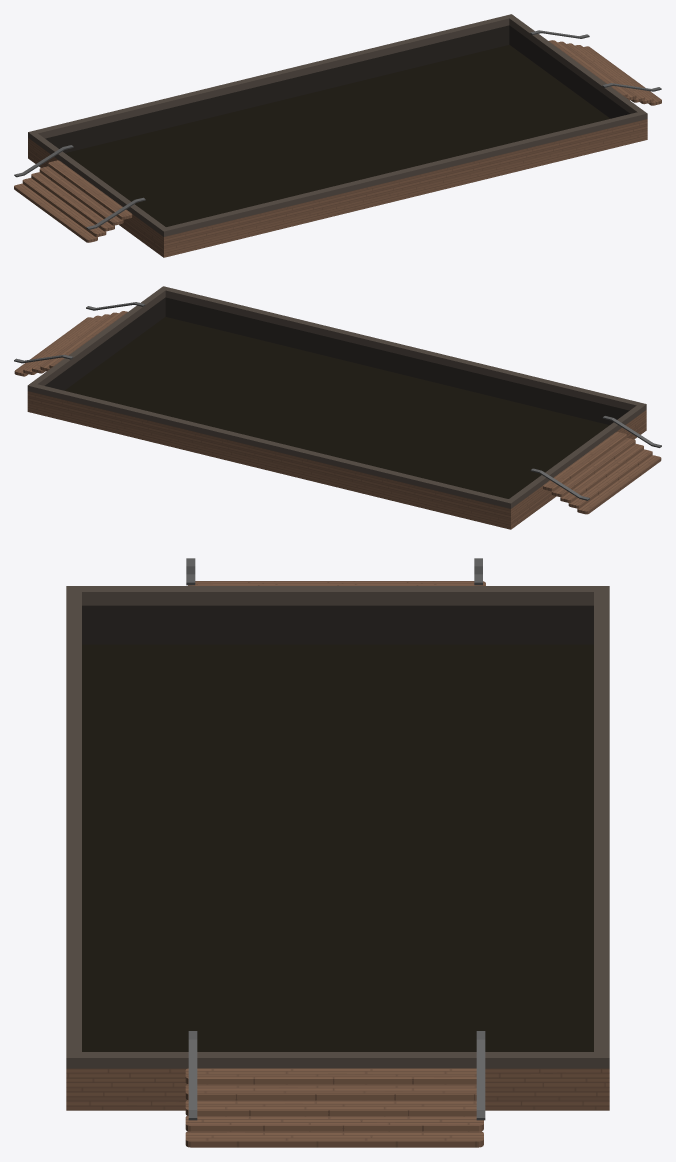
The model's file is pool.glb.
The picture shows the model from 3 angles, top to bottom: view 1: azimuth 30°, elevation 25°; view 2: azimuth 150°, elevation 25°; view 3: azimuth 270°, elevation 25°; orthographic projection. The views are drawn at different scales.
Parts seen in each view (by area): view 1: Plane.003, Plane.002, TheGarden_Building.001, TheGarden_Building.000, Cube.051, Cube.001; view 2: Plane.003, Plane.002, TheGarden_Building.001, TheGarden_Building.000, Cube.051, Cube.001; view 3: Plane.003, Plane.002, TheGarden_Building.000, Cube.001, TheGarden_Building.001.
Boxes of the visible parts, x1=… form: Plane.003: x1=28, y1=14, x2=647, y2=257; Plane.002: x1=45, y1=25, x2=629, y2=226; TheGarden_Building.001: x1=14, y1=160, x2=132, y2=242; TheGarden_Building.000: x1=549, y1=40, x2=661, y2=105; Cube.051: x1=14, y1=145, x2=145, y2=229; Cube.001: x1=530, y1=30, x2=661, y2=91; Plane.003: x1=27, y1=286, x2=646, y2=529; Plane.002: x1=45, y1=297, x2=629, y2=498; TheGarden_Building.001: x1=543, y1=432, x2=661, y2=514; TheGarden_Building.000: x1=14, y1=311, x2=127, y2=376; Cube.051: x1=530, y1=416, x2=661, y2=500; Cube.001: x1=14, y1=302, x2=145, y2=363; Plane.003: x1=66, y1=586, x2=609, y2=1110; Plane.002: x1=82, y1=605, x2=593, y2=1051; TheGarden_Building.000: x1=185, y1=1068, x2=483, y2=1147; Cube.001: x1=188, y1=1031, x2=485, y2=1120; TheGarden_Building.001: x1=188, y1=581, x2=485, y2=585.
Size of what is drawn, in the model's own units: 20.72 by 1.16 by 8.48.
Materials: 4 (4 with a texture image).
